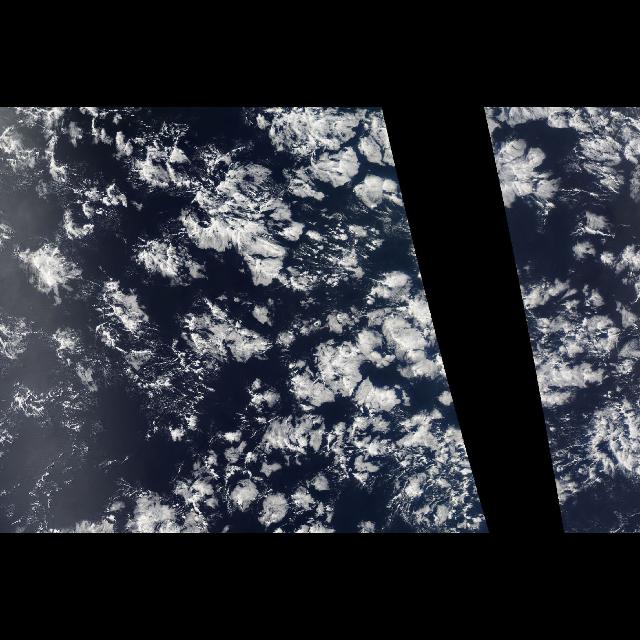Flower: (2, 108, 492, 532), (482, 108, 640, 532)
